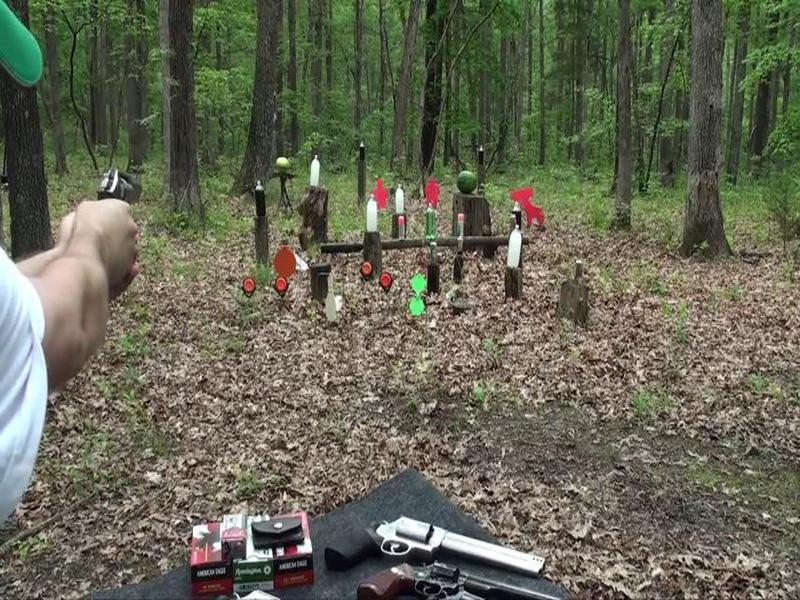Revolver: (79, 157, 160, 230)
